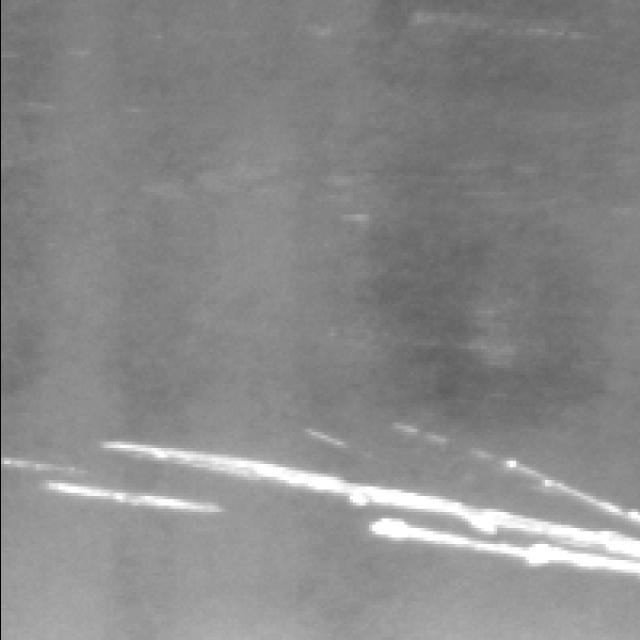scratches: (100, 440, 640, 560), (365, 518, 636, 585), (32, 481, 230, 518)
